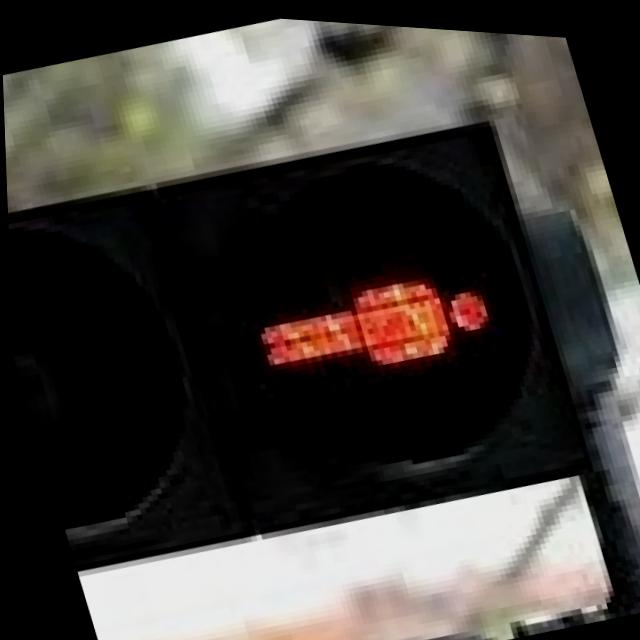red_light: (217, 201, 549, 449)
